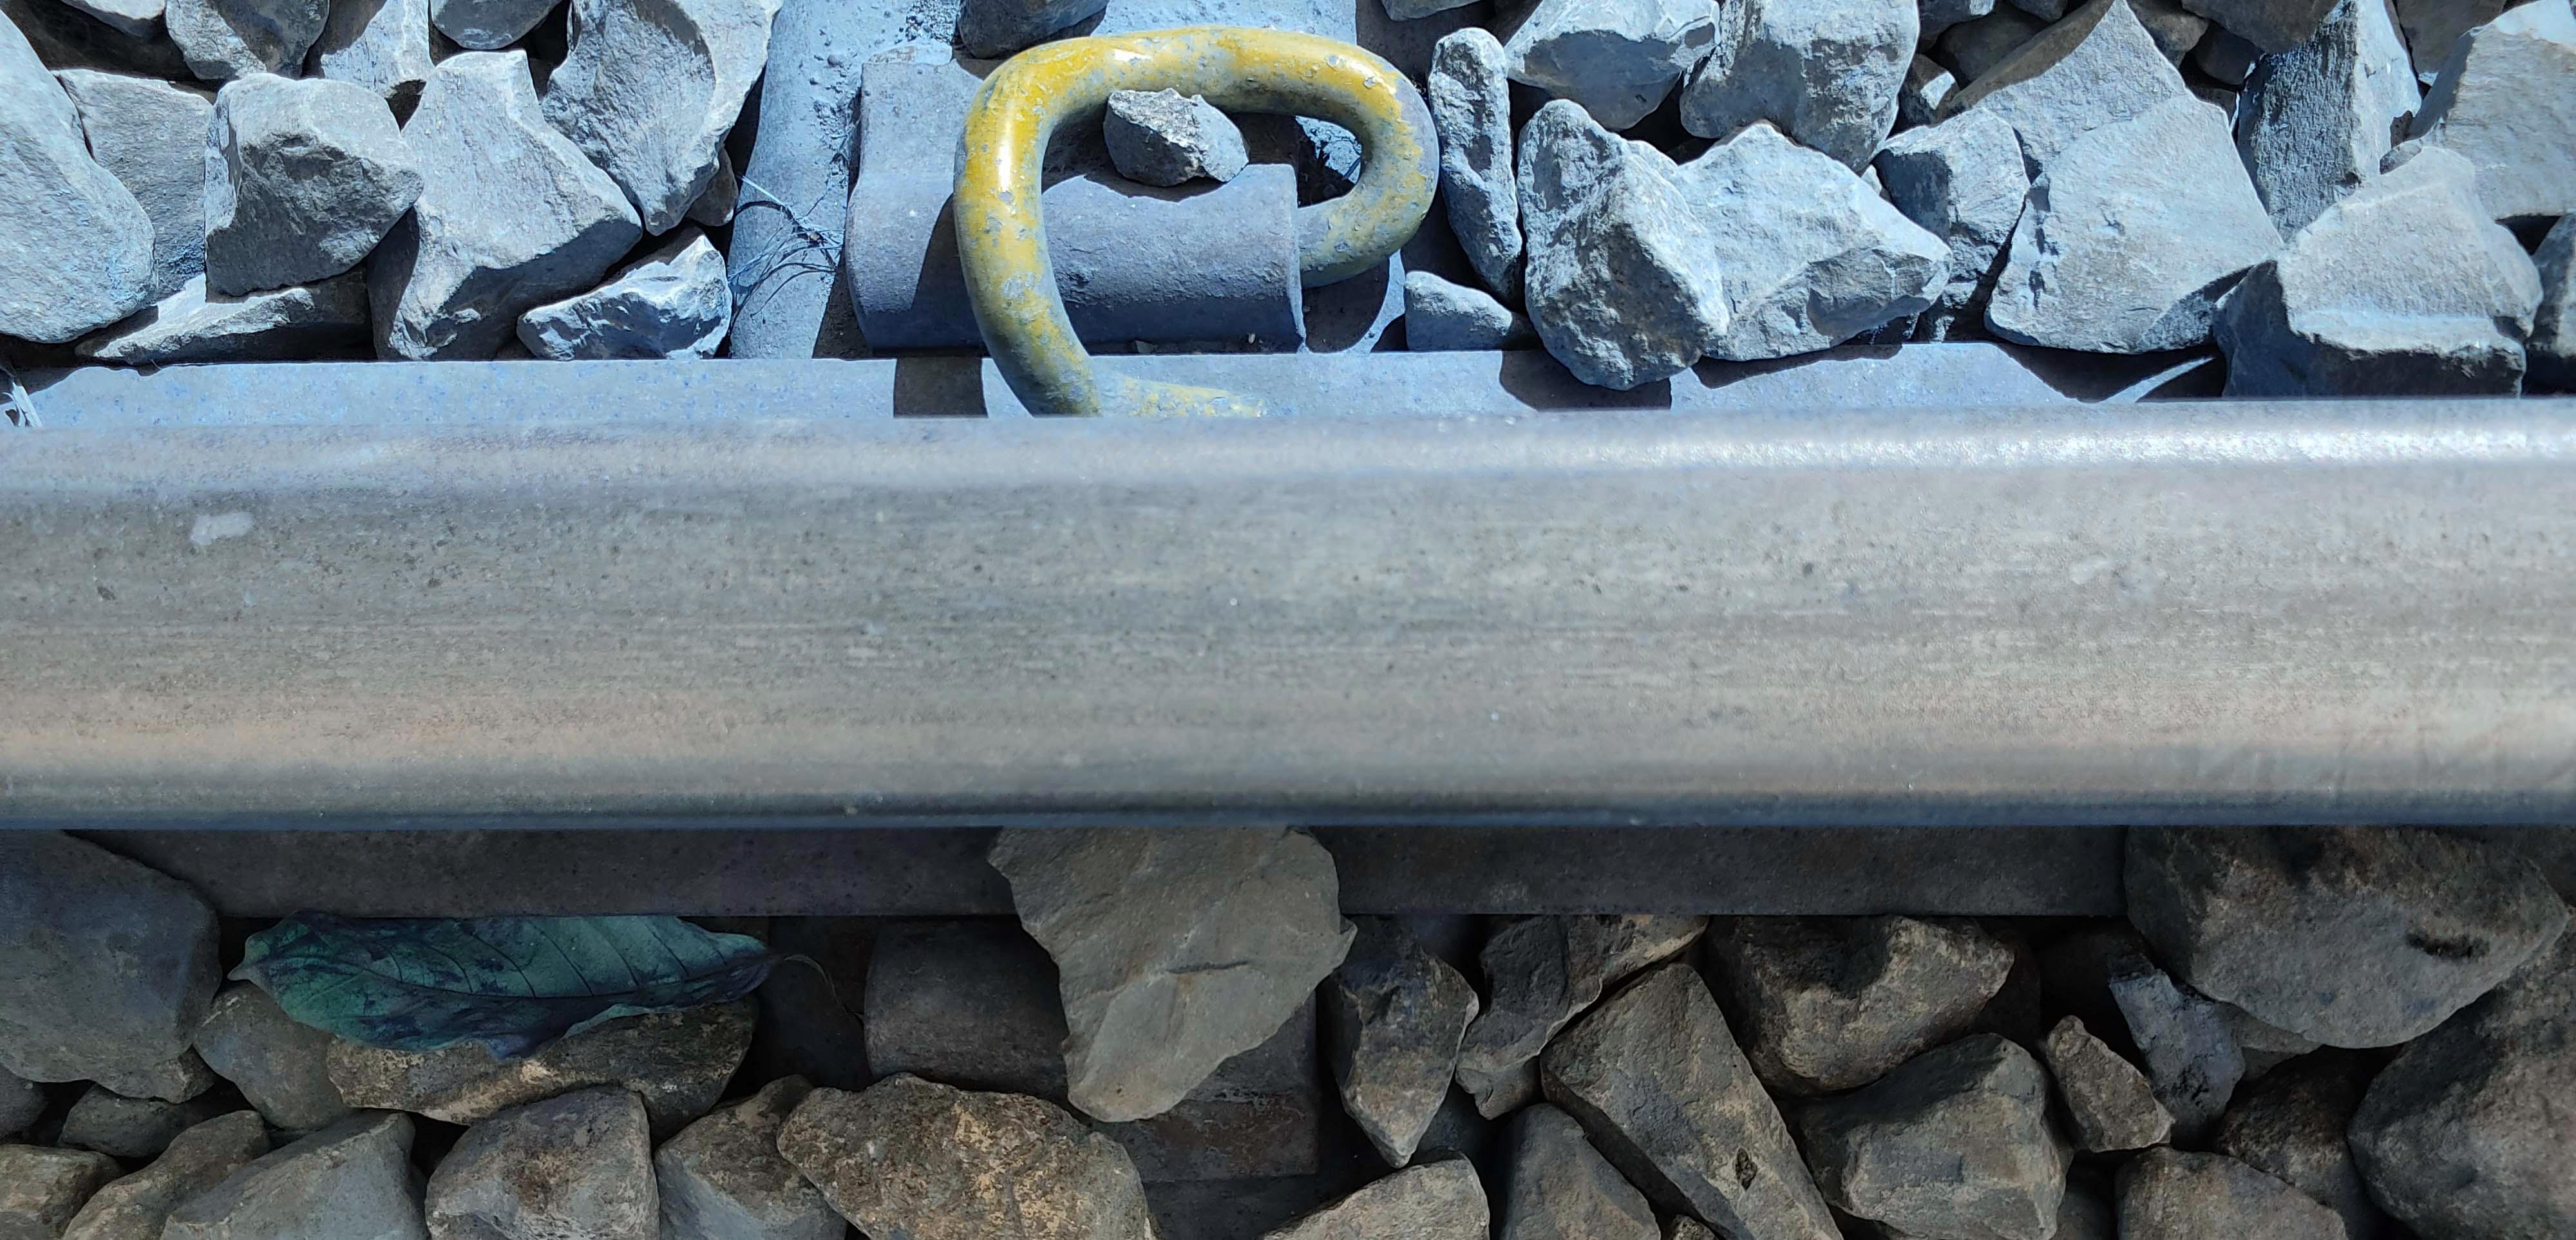error1: (899, 13, 1418, 429)
